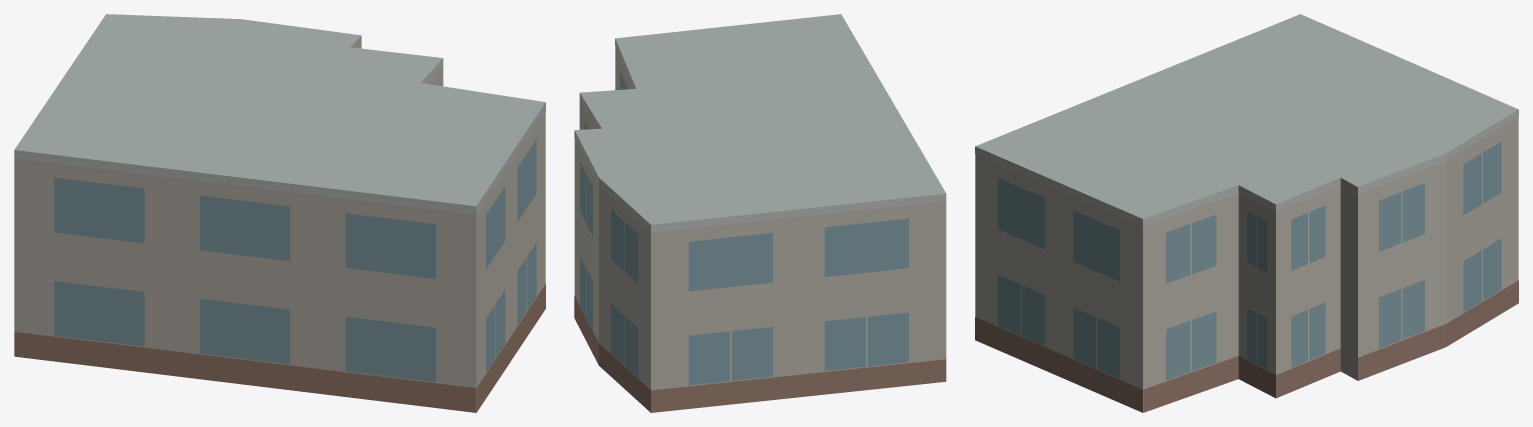
File: survey-upis-32711842.glb
The picture shows the model from 3 angles, left to right: view 1: azimuth 30°, elevation 25°; view 2: azimuth 150°, elevation 25°; view 3: azimuth 270°, elevation 25°; orthographic projection. The views are drawn at different scales.
Visible parts, largest first — view 1: survey-upis-32711842.tmp; view 2: survey-upis-32711842.tmp; view 3: survey-upis-32711842.tmp.
Boxes of the visible parts, left/top/right/bottom form: survey-upis-32711842.tmp: left=14, top=14, right=545, bottom=412; survey-upis-32711842.tmp: left=574, top=14, right=946, bottom=412; survey-upis-32711842.tmp: left=975, top=14, right=1518, bottom=412.
Bounding box in the file's own units: 13.85 × 6.1 × 15.51.
